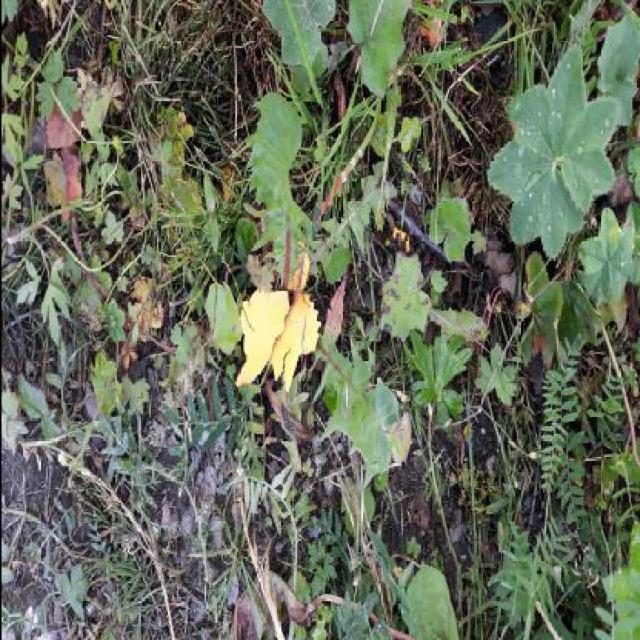plastic: (289, 320, 393, 406)
